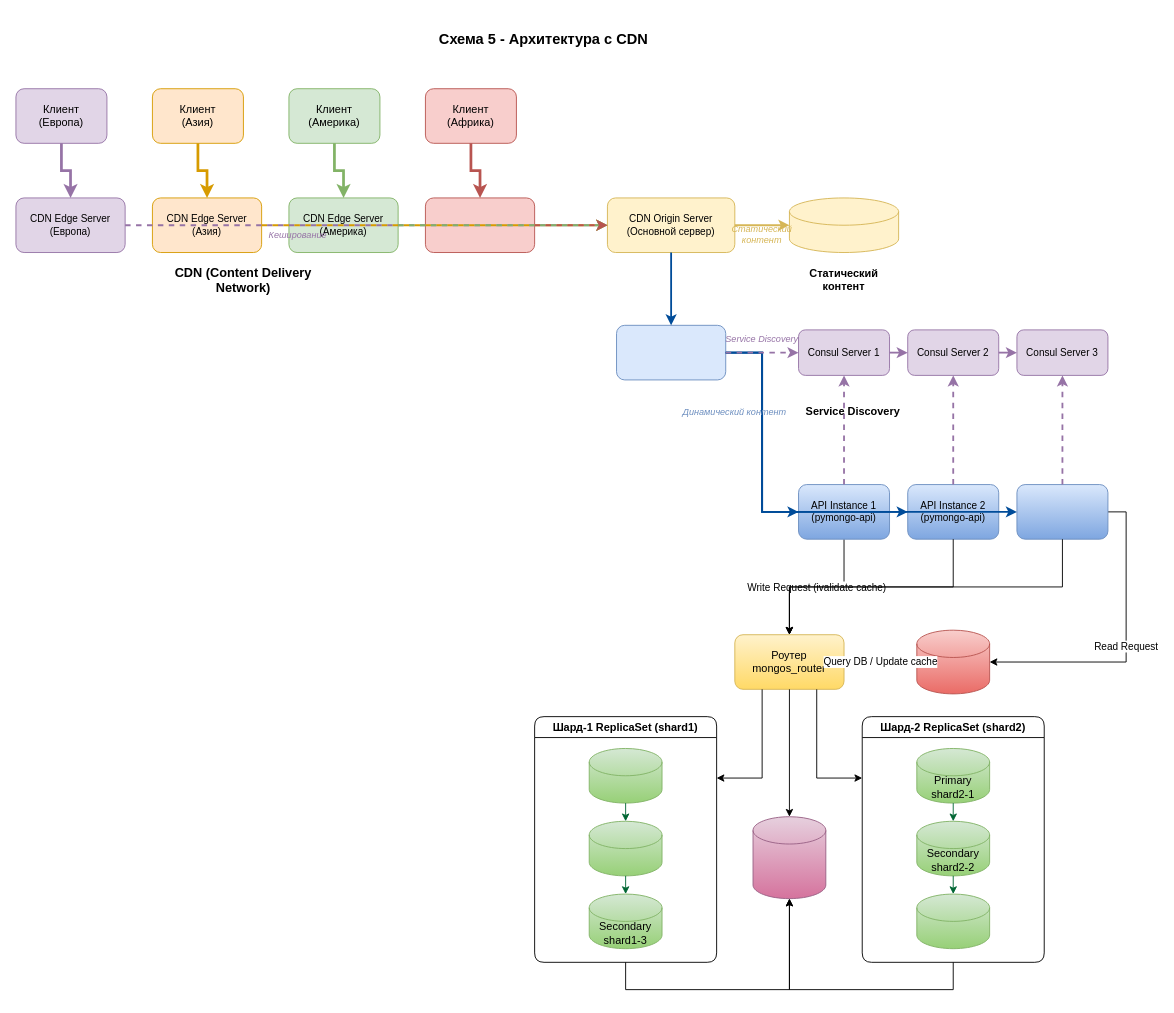
Some shapes in this 1174 by 1013 pixel diagram are drawn without their labels. Here are the shapes that lost their labels. From the top down, the centre of each, then its label:
At pixel 480 225: "CDN Edge Server (Африка)".
At pixel 844 225: "Static Content Storage (Изображения, CSS, JS)".
At pixel 671 352: "API Gateway (Nginx/HAProxy)".
At pixel 1062 511: "API Instance 3 (pymongo-api)".
At pixel 953 661: "Кэш redis".
At pixel 625 775: "Primary shard1-1".
At pixel 625 848: "Secondary shard1-2".
At pixel 789 857: "Конфигурационный сервер configSrv".
At pixel 953 921: "Secondary shard2-3".
